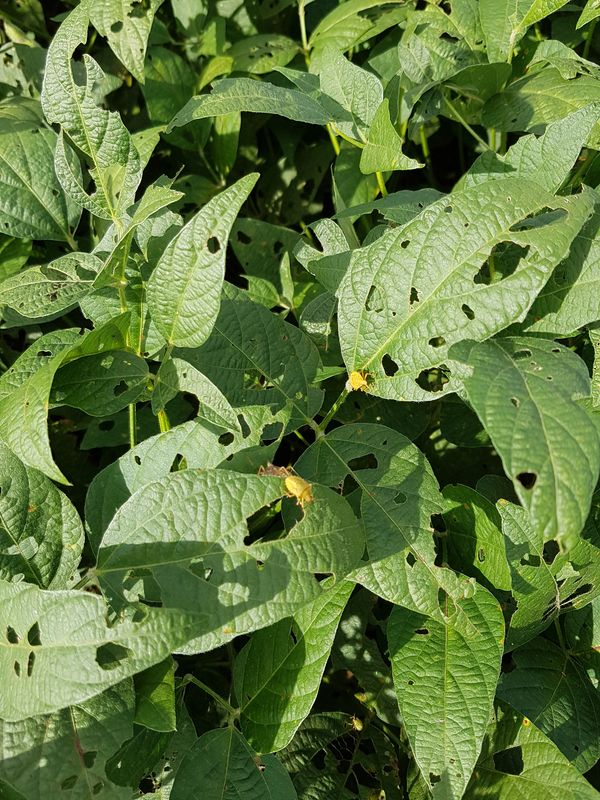Euschistus_heros_adulto: (250, 458, 301, 475)
Euschistus_heros_ninfa: (279, 475, 325, 511), (344, 365, 379, 397)
